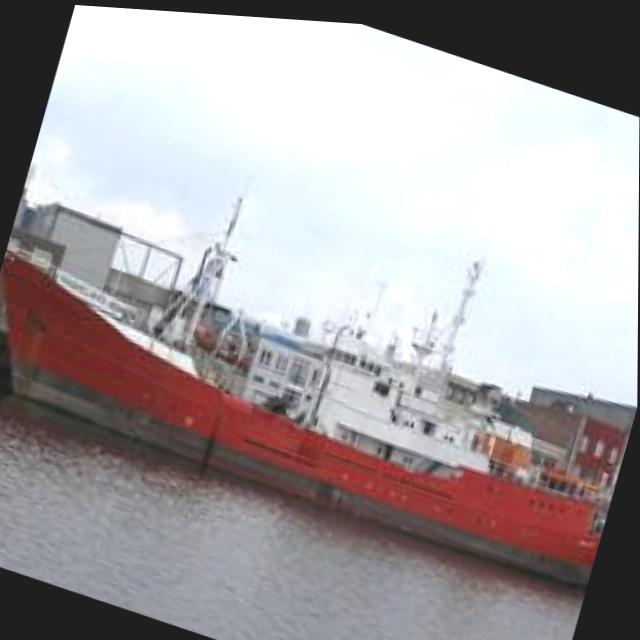ship2: (0, 186, 602, 572)
